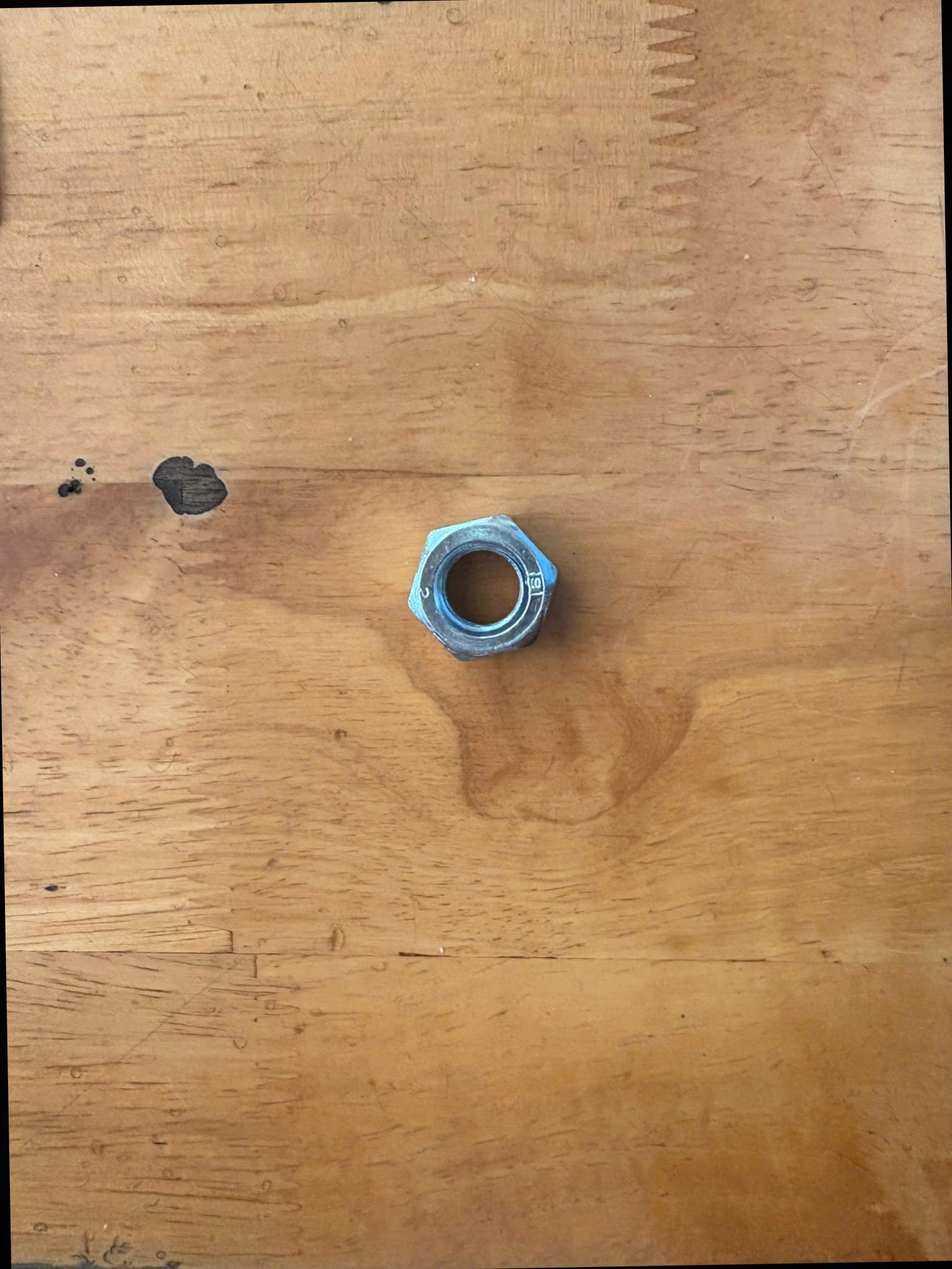nut: (394, 507, 569, 692)
